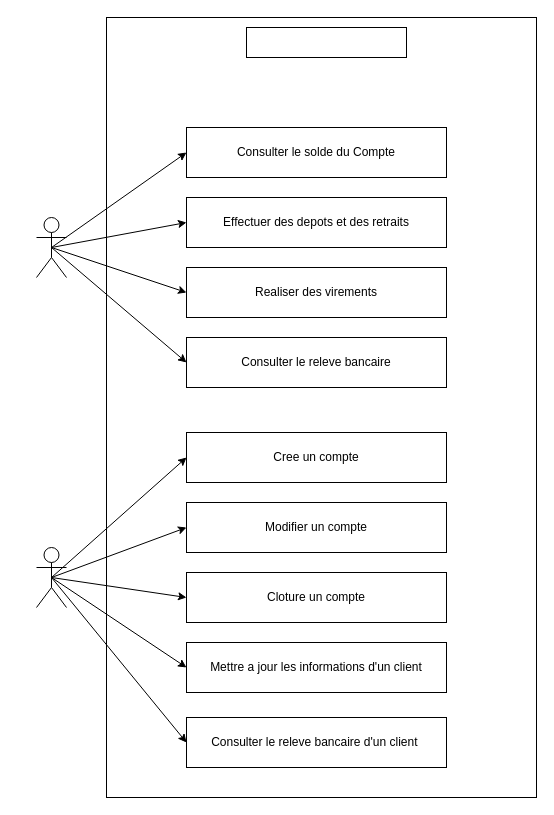
This 554x815 diagram has some shape labels left out. The centre of each missing label's shape, as x and y in pixels:
"Client" goes at pixel 51 247.
"Gestionnaire" goes at pixel 51 577.
"Système bancaire" goes at pixel 326 42.
